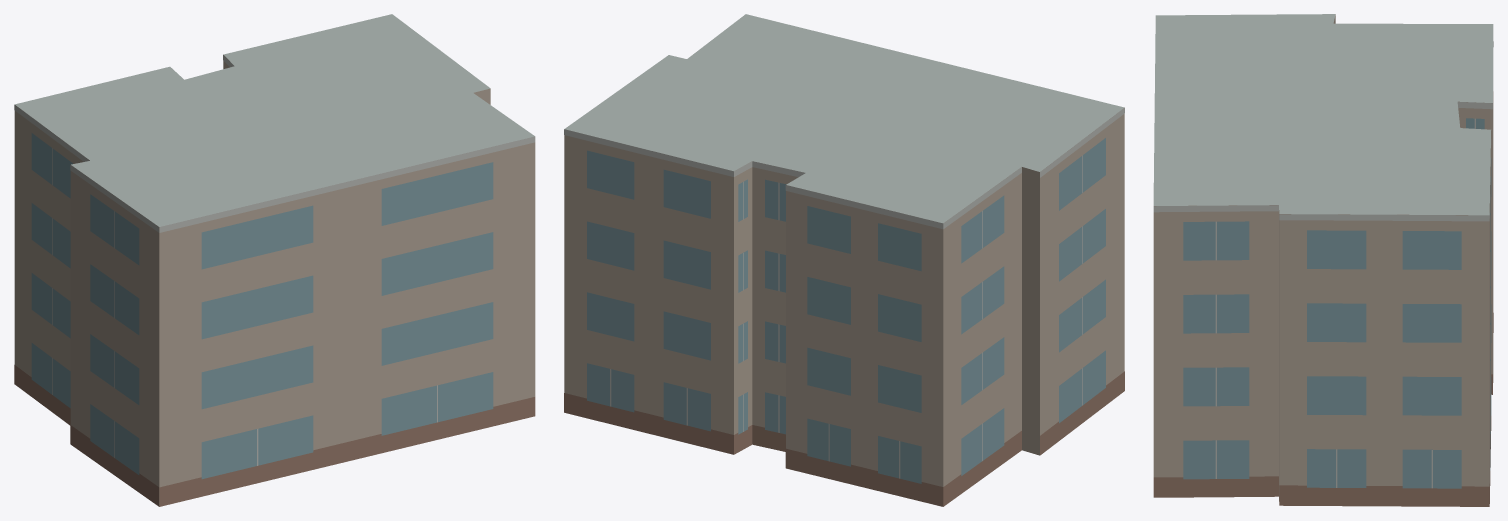
The model's file is survey-upis-32951920.glb.
3 renders of one model, left to right at view 1: azimuth 30°, elevation 25°; view 2: azimuth 150°, elevation 25°; view 3: azimuth 270°, elevation 25°, orthographic. The views are drawn at different scales.
Parts seen in each view (by area): view 1: survey-upis-32951920.tmp; view 2: survey-upis-32951920.tmp; view 3: survey-upis-32951920.tmp.
Part boxes in pixels (bbox=[...]): survey-upis-32951920.tmp: bbox=[14, 14, 535, 506]; survey-upis-32951920.tmp: bbox=[564, 14, 1124, 506]; survey-upis-32951920.tmp: bbox=[1153, 14, 1493, 506].
Size of the model in its own units: 17.2 by 11.62 by 12.28.
